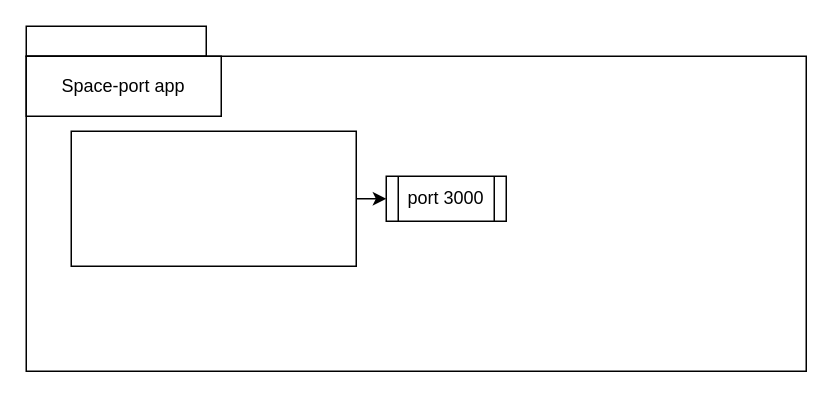
The diagram is 833 pixels wide and 398 high, and some of its shapes have lost their labels. The box of each missing label's shape, as (x1, y1, x2, y2) in pixels:
Container Space-port app: (70, 130, 356, 266)
IP address: (25, 25, 206, 56)
